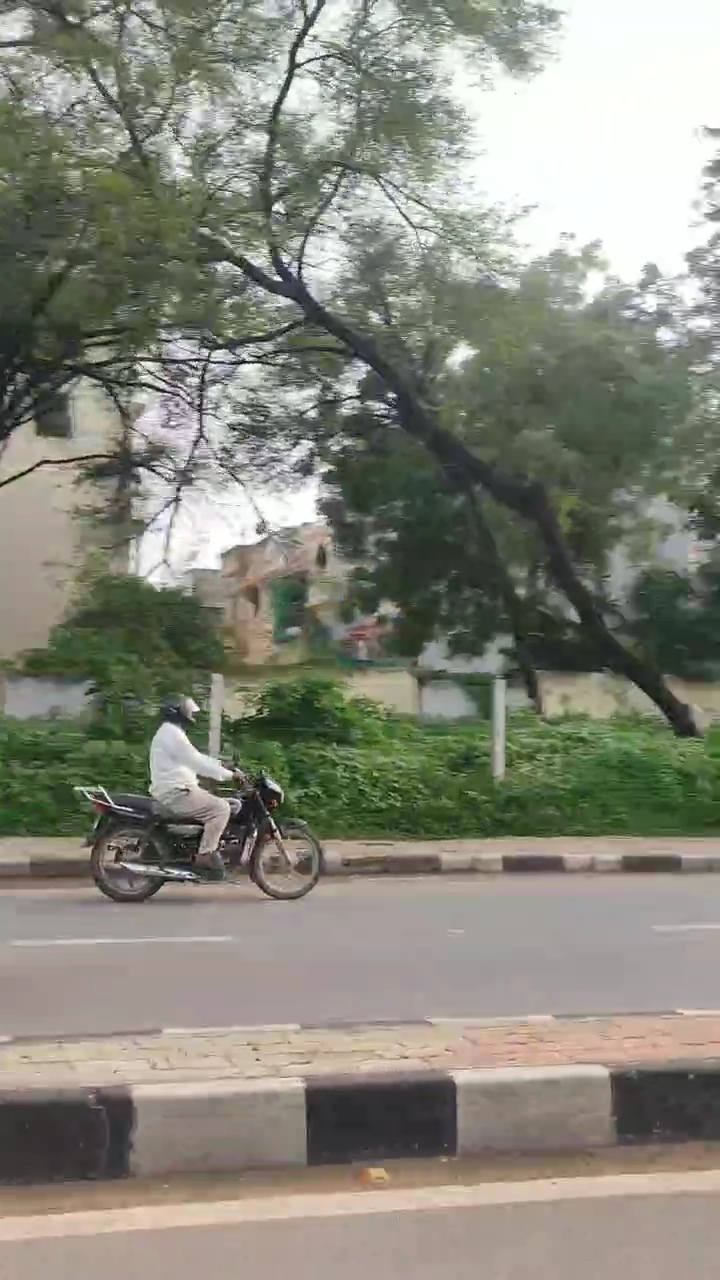BikeWithRider: (64, 686, 334, 913)
Helmet: (150, 689, 207, 732)
